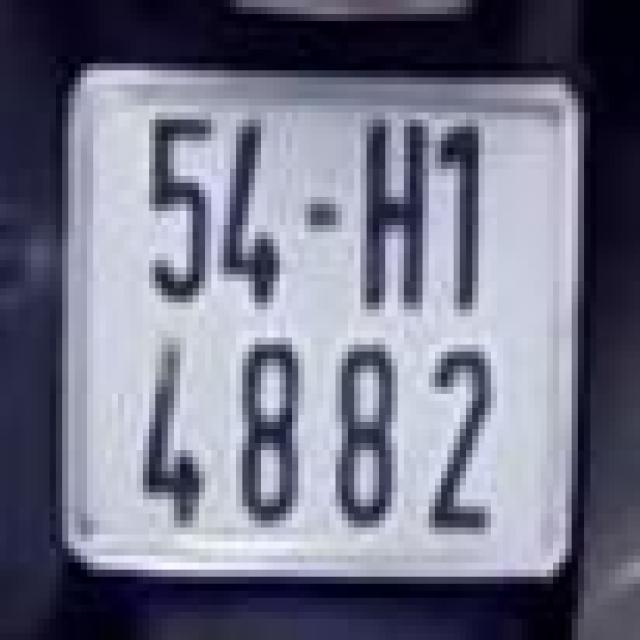1: (432, 116, 494, 313)
2: (422, 341, 503, 538)
4: (130, 327, 212, 531), (221, 113, 289, 310)
5: (143, 112, 217, 324)
8: (230, 327, 304, 531), (326, 338, 401, 534)
H: (348, 116, 422, 313)
